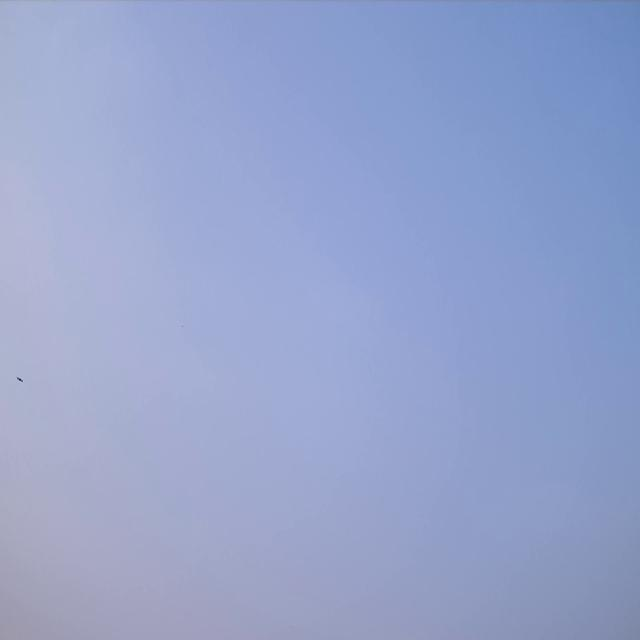UAV: (16, 375, 24, 383)
